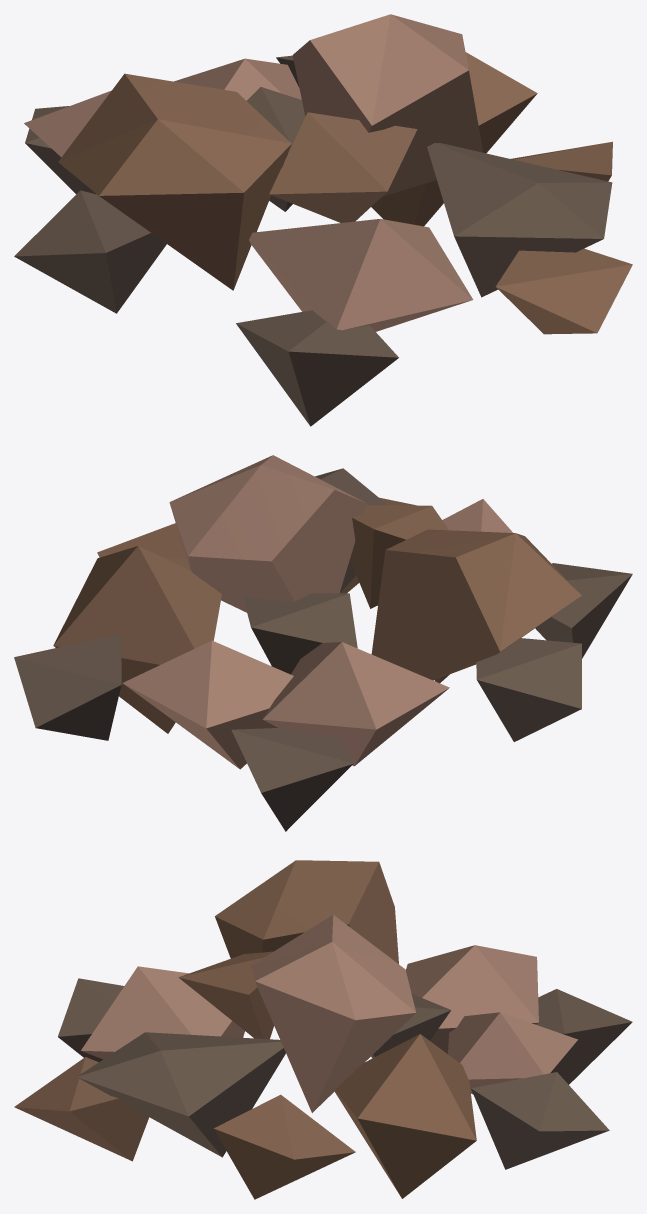
Rendered from entity74006.glb.
The picture shows the model from 3 angles, top to bottom: view 1: azimuth 30°, elevation 25°; view 2: azimuth 150°, elevation 25°; view 3: azimuth 270°, elevation 25°; orthographic projection. The views are drawn at different scales.
Parts seen in each view (by area): view 1: node_SM_Env_Plant_Small_01 (24); view 2: node_SM_Env_Plant_Small_01 (24); view 3: node_SM_Env_Plant_Small_01 (24).
Part boxes in pixels (x1,y1,x2,y2): node_SM_Env_Plant_Small_01 (24): (14,14,632,426); node_SM_Env_Plant_Small_01 (24): (14,455,632,831); node_SM_Env_Plant_Small_01 (24): (14,860,632,1199).
Size of the model in its own units: 1.36 by 0.6388 by 1.54.
1 material, 1 textured.
